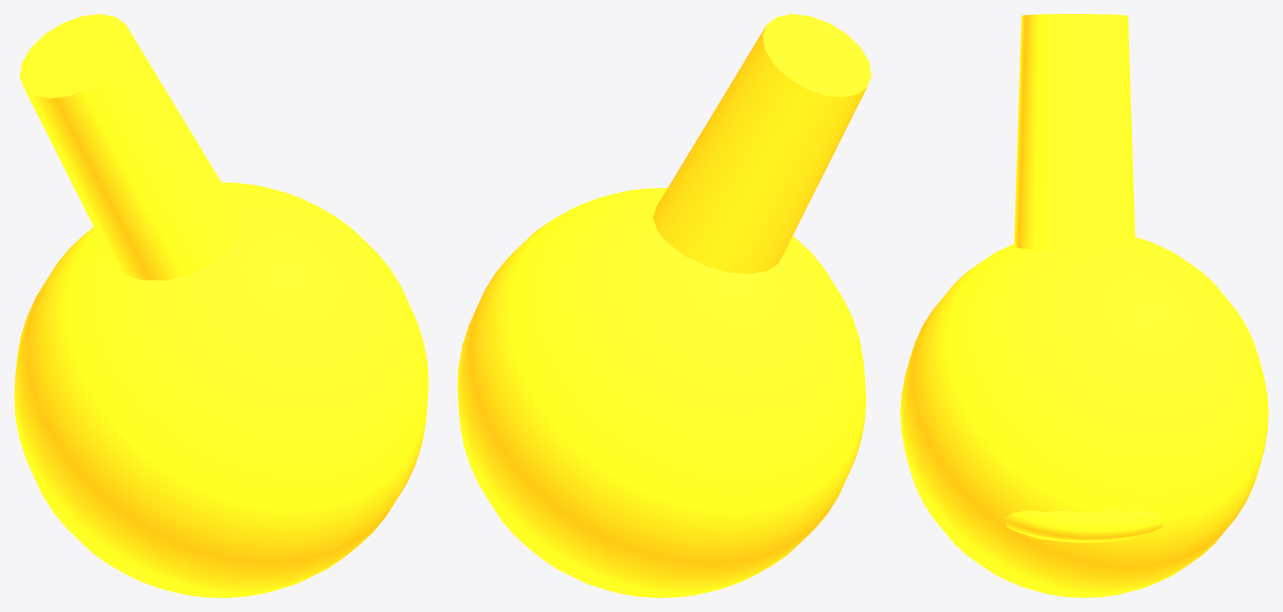
The model's file is overlay-teste.glb.
3 renders of one model, left to right at view 1: azimuth 30°, elevation 25°; view 2: azimuth 150°, elevation 25°; view 3: azimuth 270°, elevation 25°, orthographic. The views are drawn at different scales.
Bounding box in the file's own units: 0.8073 × 1.19 × 0.76.
